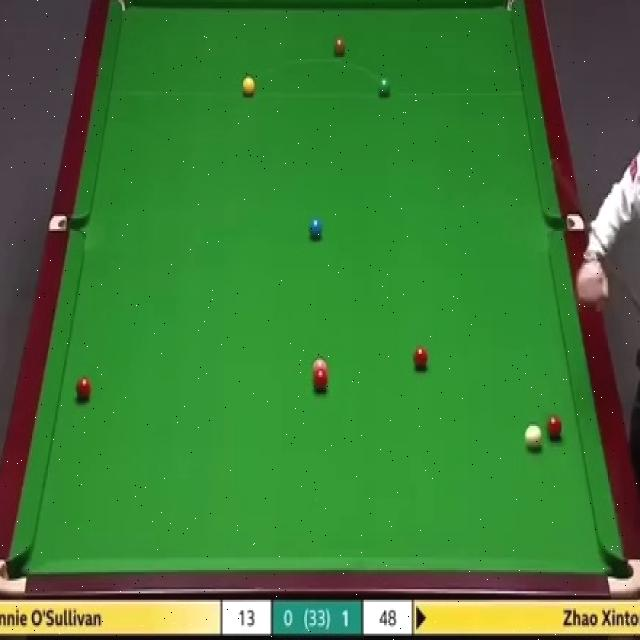blue-ball: (309, 219, 321, 241)
brown-ball: (331, 37, 347, 58)
green-ball: (376, 75, 391, 97)
pink-ball: (311, 358, 330, 370)
red-ball: (546, 413, 562, 442), (74, 379, 91, 402), (313, 371, 329, 395), (412, 346, 428, 369)
white-ball: (523, 422, 543, 449)
yellow-ball: (241, 76, 255, 98)
